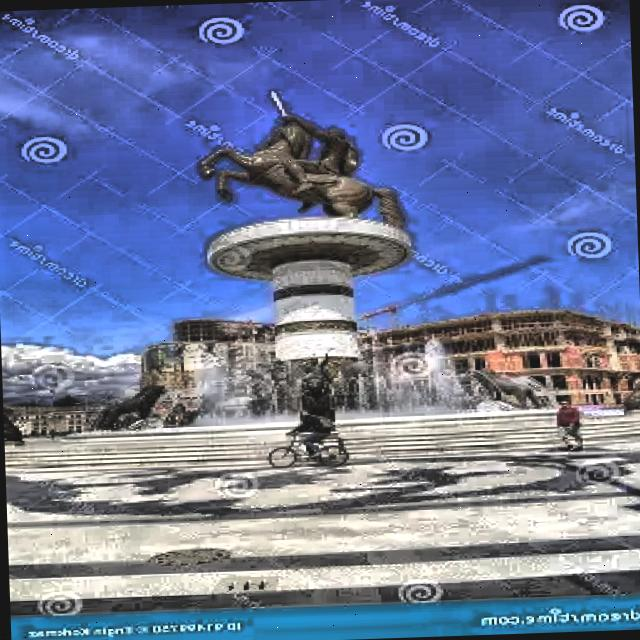alexander the great monument: (186, 76, 450, 433)
